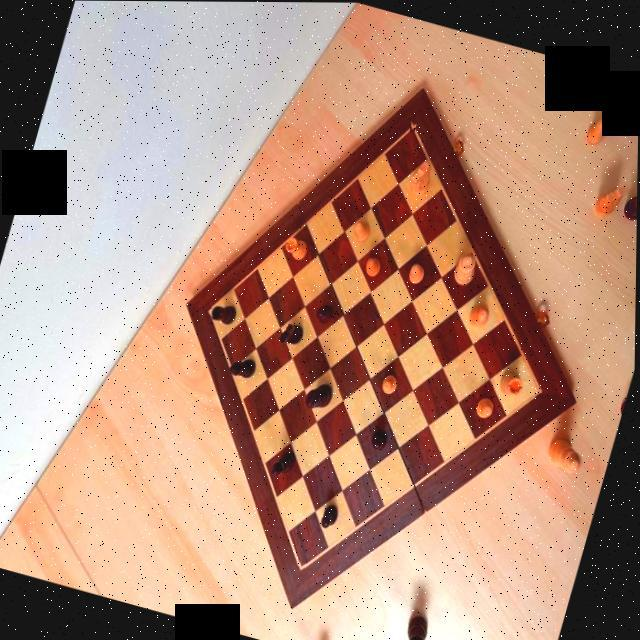chess-table-corners: (535, 382, 547, 397), (298, 560, 308, 574), (410, 120, 418, 131), (207, 305, 215, 313)
